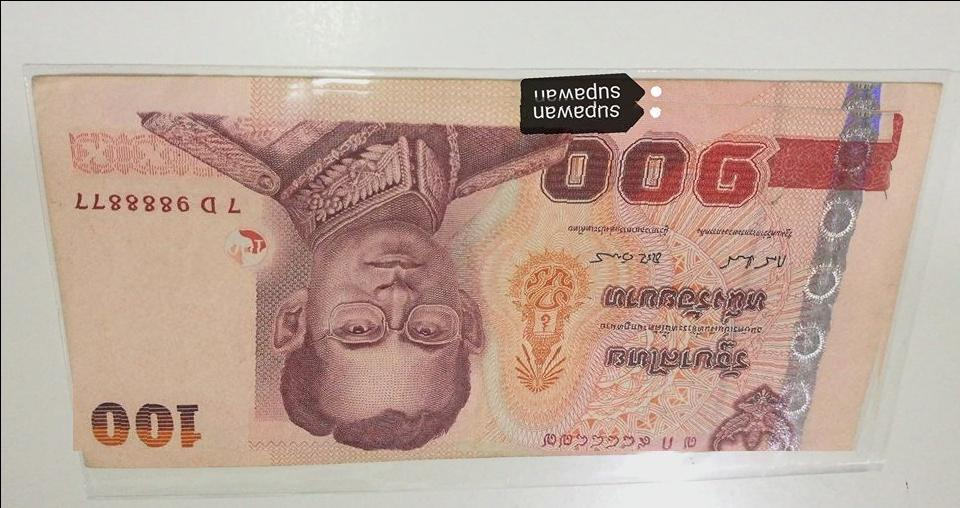100BahtTai: (73, 81, 894, 452)
